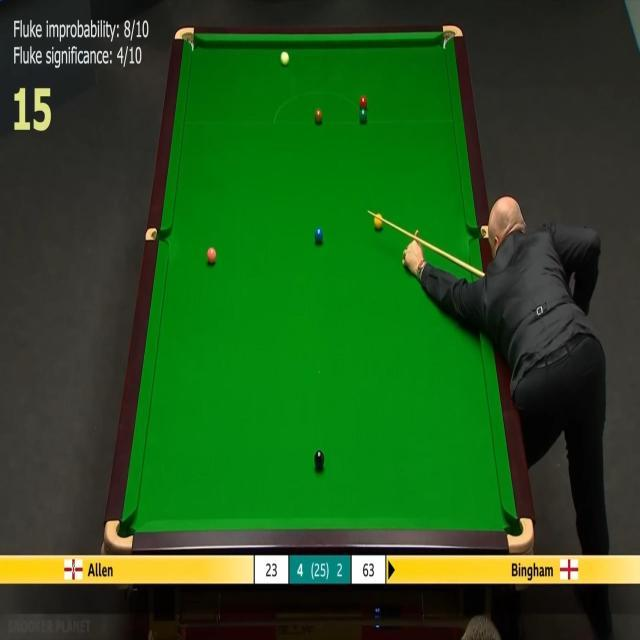Ball: (314, 450, 325, 468), (206, 246, 216, 264), (280, 51, 290, 65), (314, 108, 322, 124), (374, 214, 383, 228), (315, 227, 323, 242), (360, 109, 368, 123), (360, 96, 368, 110)
